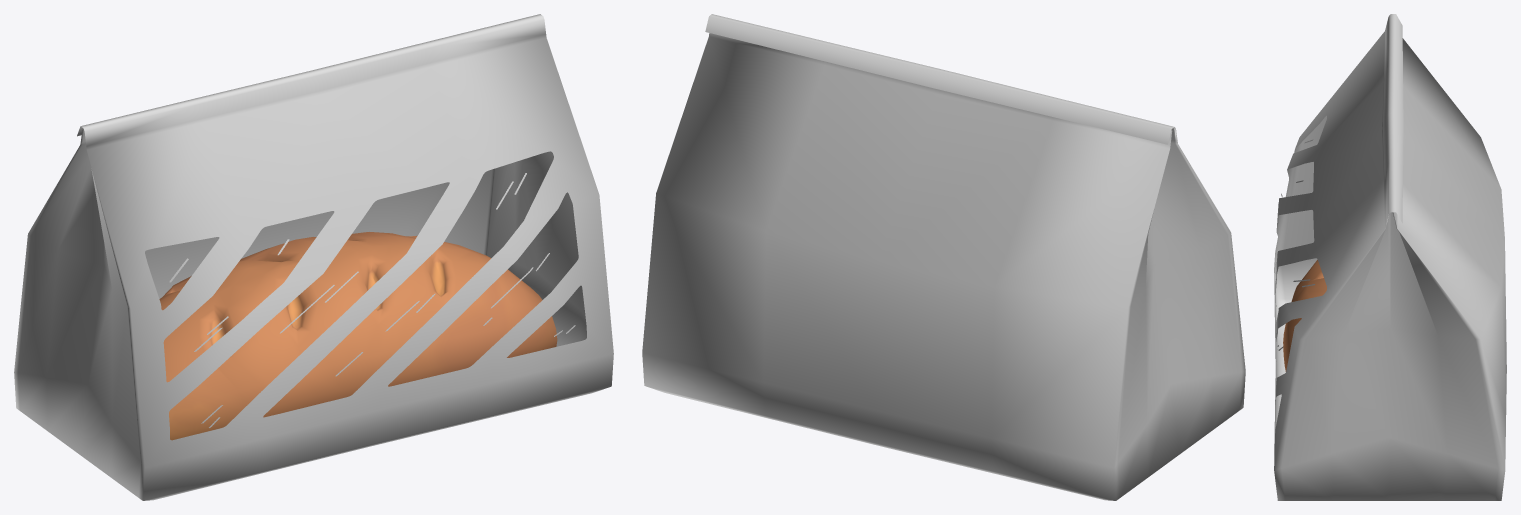
The model's file is pie_pocket.fbx.
The picture shows the model from 3 angles, left to right: view 1: azimuth 30°, elevation 25°; view 2: azimuth 150°, elevation 25°; view 3: azimuth 270°, elevation 25°; orthographic projection. The views are drawn at different scales.
Parts seen in each view (by area): view 1: pie_packet_07.001; view 2: pie_packet_07.001; view 3: pie_packet_07.001.
Boxes of the visible parts, bbox=[...] form: pie_packet_07.001: bbox=[14, 14, 613, 500]; pie_packet_07.001: bbox=[642, 14, 1245, 500]; pie_packet_07.001: bbox=[1274, 14, 1506, 500].
Bounding box in the file's own units: 13.23 × 8.93 × 6.44.
